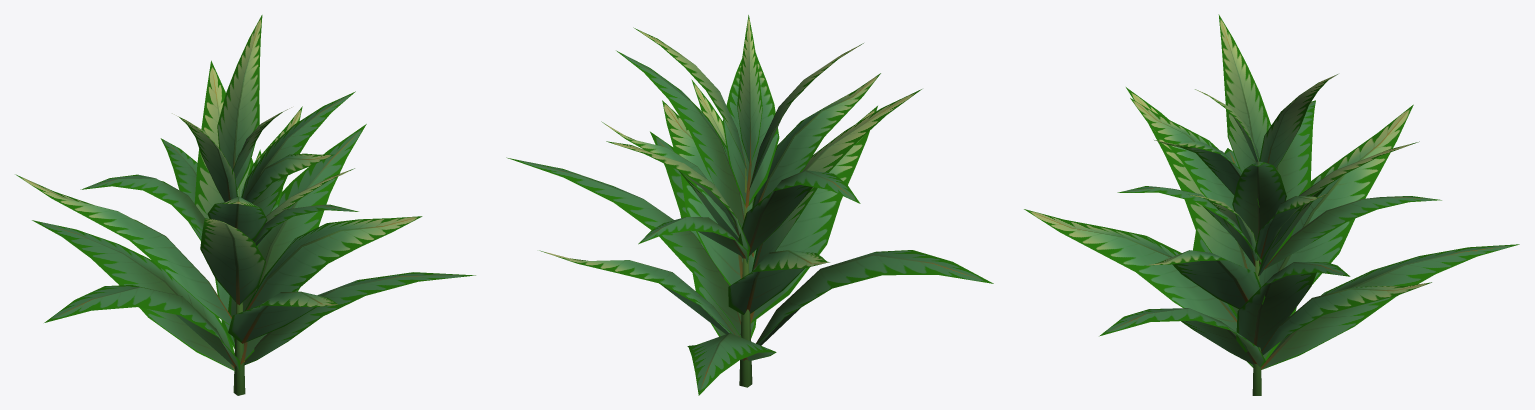
File: Plant_004_Mesh_001.fbx
3 renders of one model, left to right at view 1: azimuth 30°, elevation 25°; view 2: azimuth 150°, elevation 25°; view 3: azimuth 270°, elevation 25°, orthographic. The views are drawn at different scales.
Parts seen in each view (by area): view 1: Plant_004_Mesh_001; view 2: Plant_004_Mesh_001; view 3: Plant_004_Mesh_001.
Boxes of the visible parts, x1=… form: Plant_004_Mesh_001: x1=15, y1=15, x2=475, y2=395; Plant_004_Mesh_001: x1=506, y1=15, x2=993, y2=395; Plant_004_Mesh_001: x1=1024, y1=14, x2=1519, y2=395.
Bounding box in the file's own units: 488 × 410 × 524.
